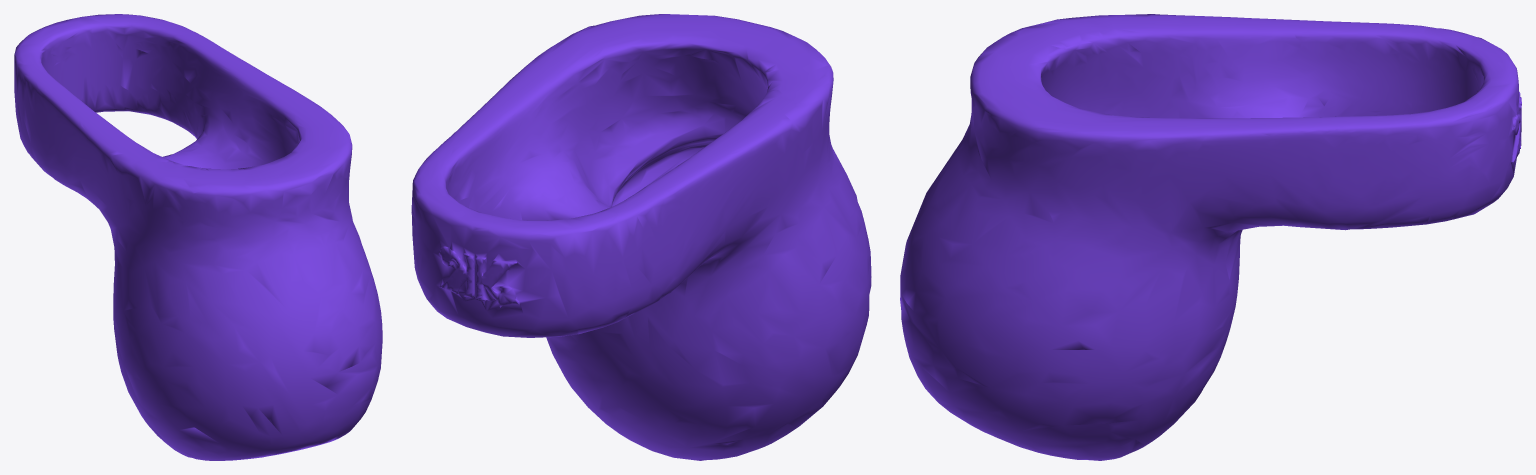
The model's file is plain-standard-ar.glb.
3 renders of one model, left to right at view 1: azimuth 30°, elevation 25°; view 2: azimuth 150°, elevation 25°; view 3: azimuth 270°, elevation 25°, orthographic. The views are drawn at different scales.
Size of the model in its own units: 0.0488 by 0.0621 by 0.0952.
